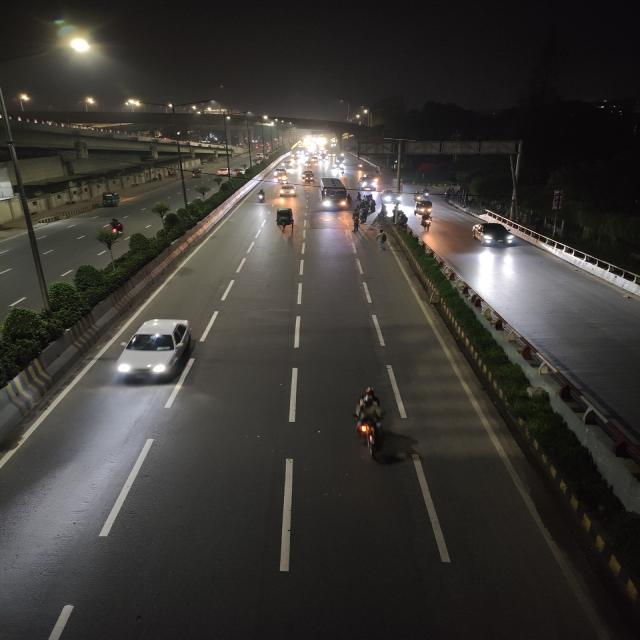bus: (317, 176, 350, 212)
car: (110, 314, 211, 390), (467, 220, 519, 248), (277, 182, 299, 198), (380, 189, 402, 203), (359, 179, 378, 191), (218, 166, 230, 178)
cng: (273, 205, 297, 232), (98, 190, 122, 208), (415, 199, 435, 215), (303, 174, 316, 185), (190, 168, 203, 178)
motorcycle: (344, 383, 401, 459), (96, 216, 128, 245), (418, 214, 436, 234), (255, 188, 268, 204)
pedestrian: (375, 230, 392, 254), (350, 212, 362, 235)
